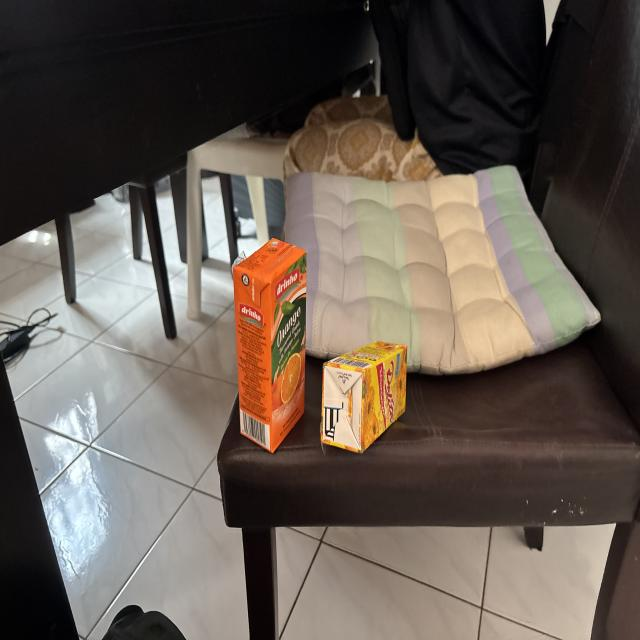drink_carton: (222, 232, 315, 457), (316, 332, 420, 461)
